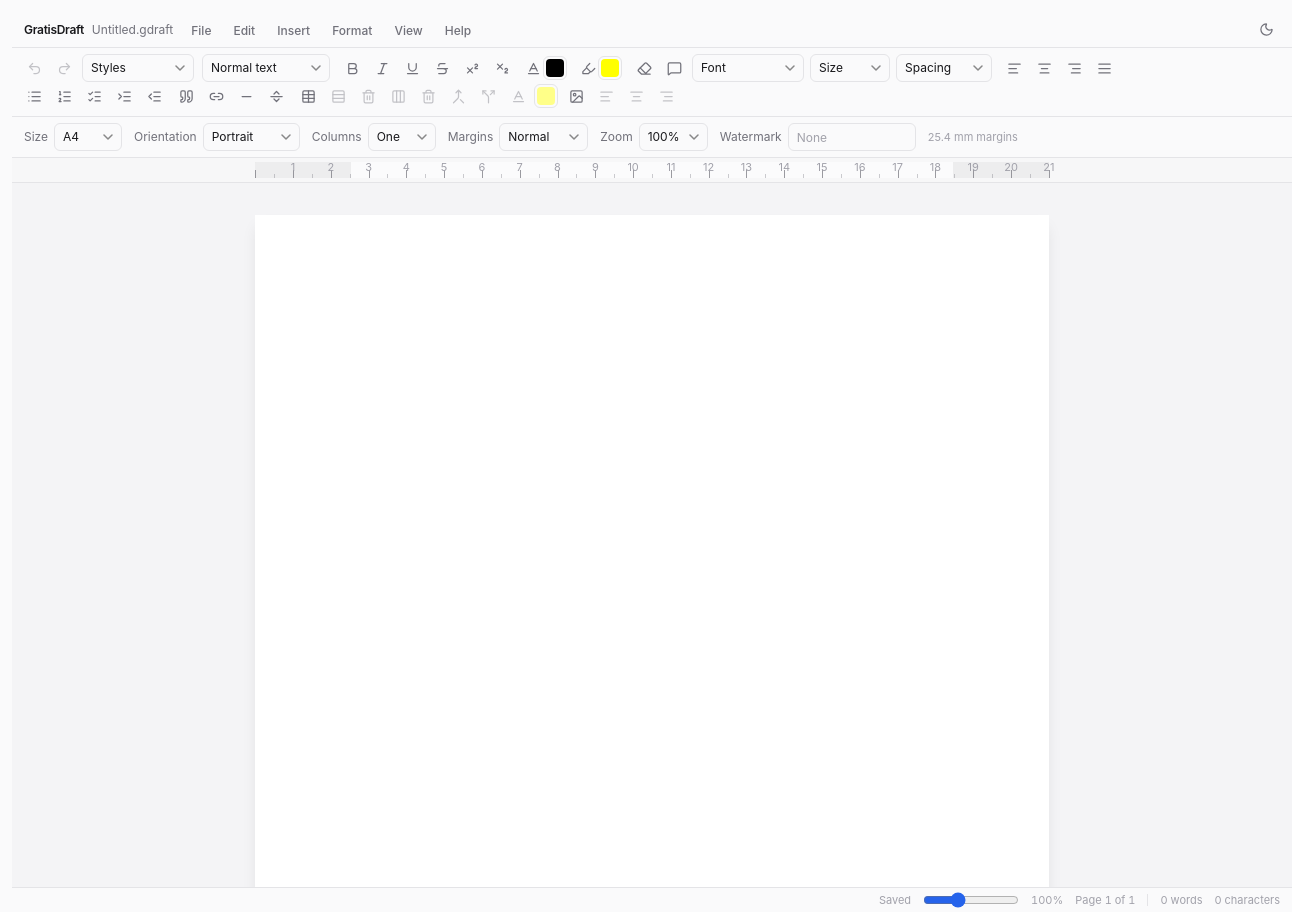
App shell › opens the left Outline panel from the View menu
Click the button "View" at {"x": 409, "y": 30}, box [384, 18, 433, 42]
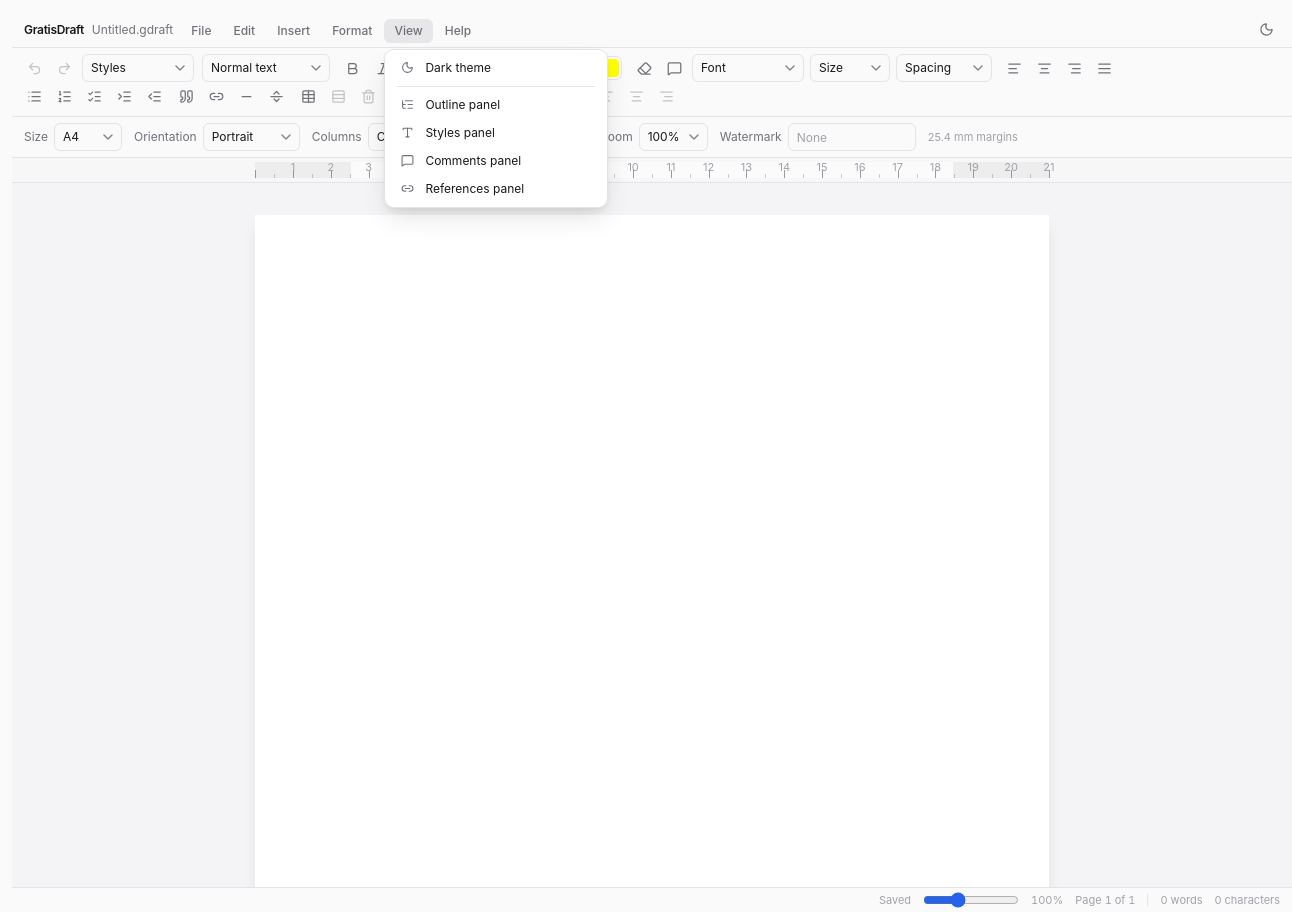
Click the menu item "Outline panel" at {"x": 496, "y": 104}, box [389, 90, 603, 118]
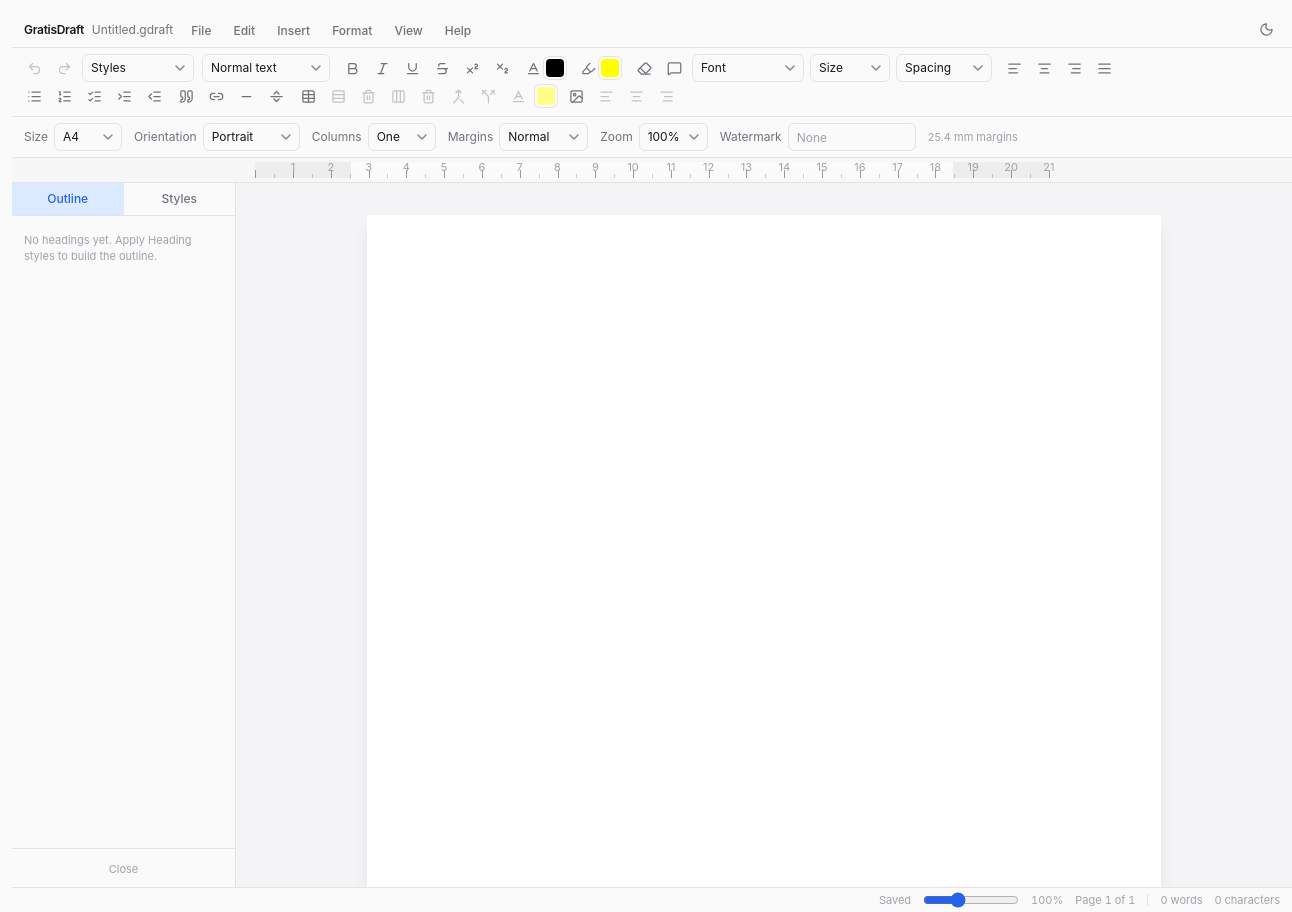
Now the element with test id "left-sidebar" is shown, box [12, 183, 236, 887]
Now the element with test id "left-sidebar" shows "No headings yet", box [24, 233, 192, 263]
Click the button with aria-label "Close left panel" at {"x": 124, "y": 869}, box [18, 857, 229, 881]
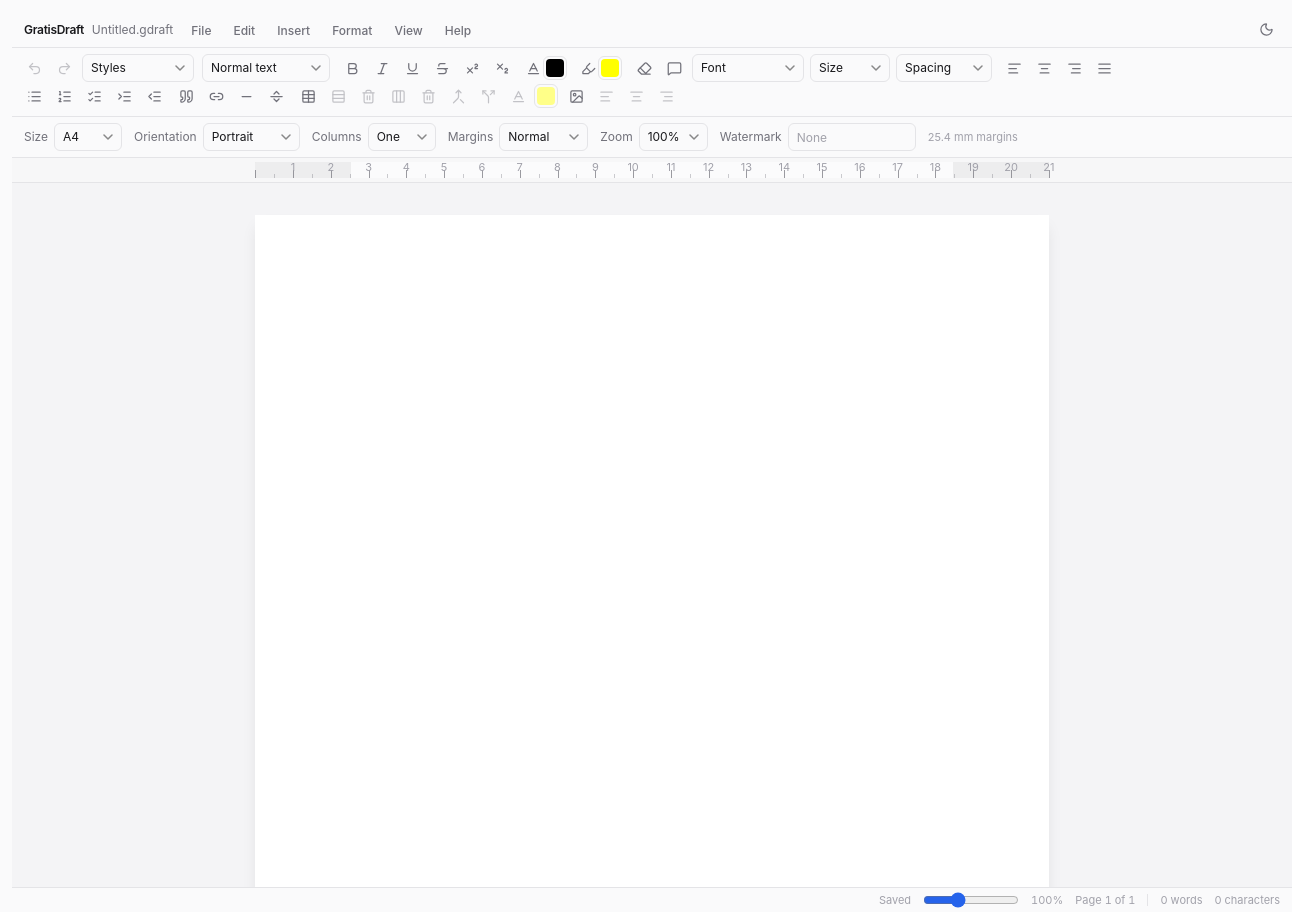
Now the element with test id "left-sidebar" is gone
